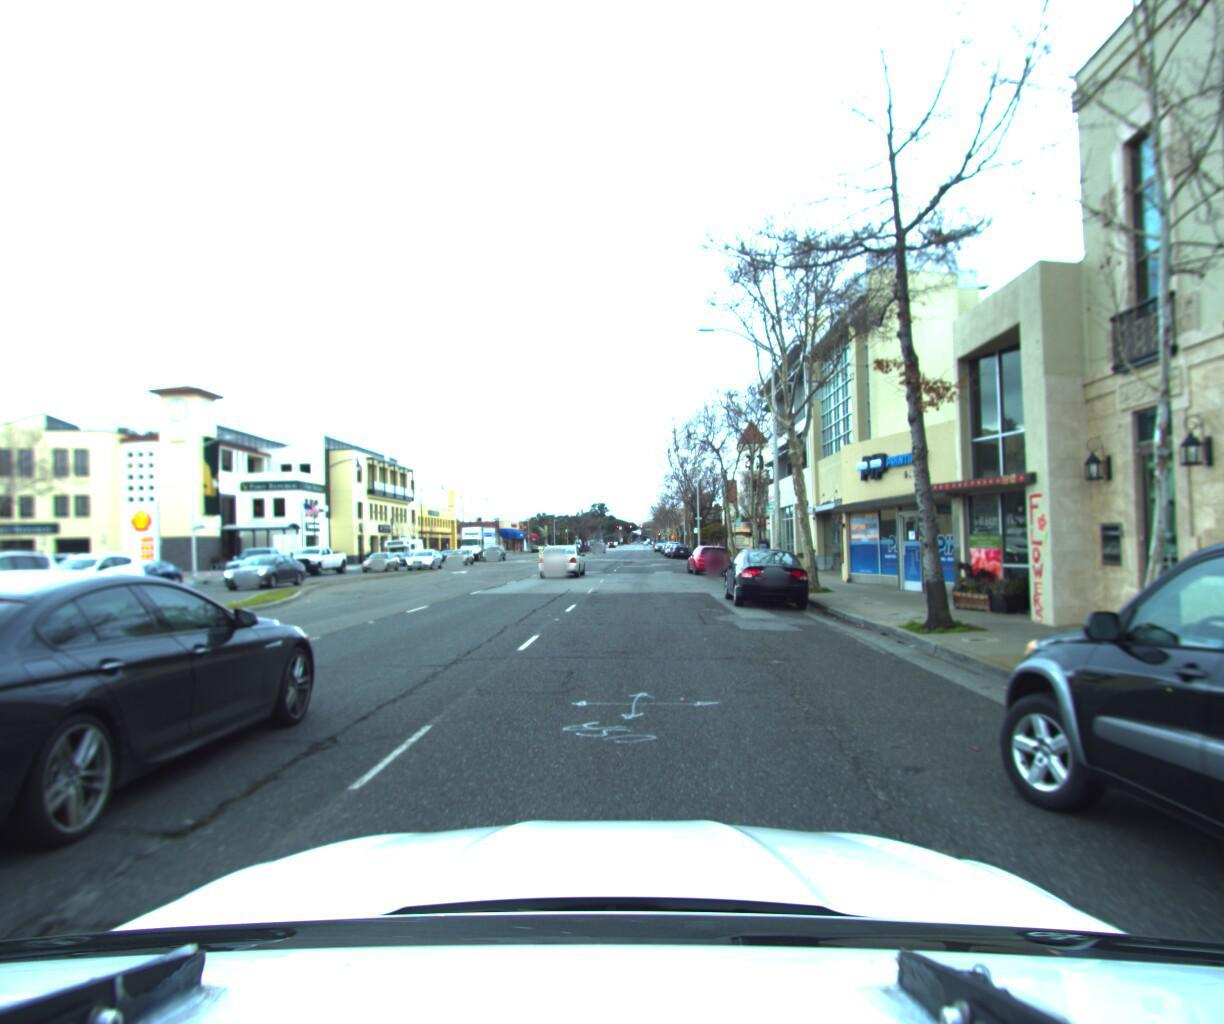car: (957, 444, 1224, 1024), (0, 550, 333, 965), (21, 550, 158, 609), (0, 554, 80, 635), (722, 542, 818, 606), (103, 558, 207, 607), (219, 550, 315, 592), (283, 542, 354, 575), (535, 537, 592, 577), (685, 539, 738, 573), (358, 548, 405, 571), (403, 547, 448, 569), (443, 547, 476, 564), (480, 543, 509, 561), (671, 539, 692, 555)
